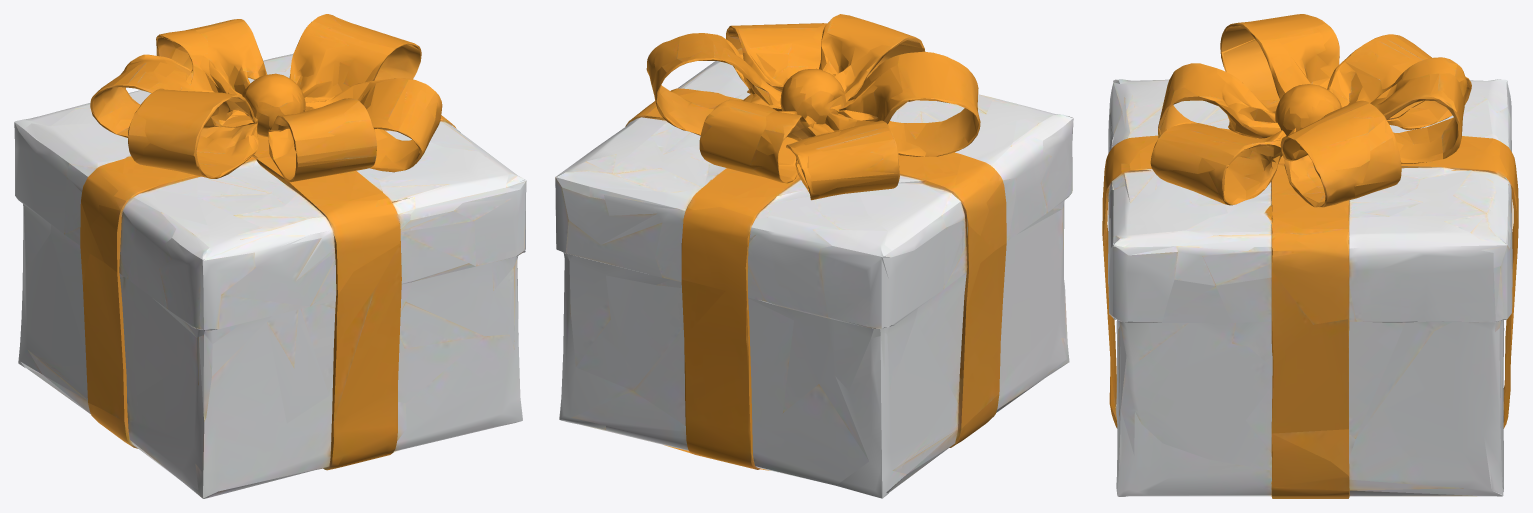
The model's file is gift-box.glb.
3 renders of one model, left to right at view 1: azimuth 30°, elevation 25°; view 2: azimuth 150°, elevation 25°; view 3: azimuth 270°, elevation 25°, orthographic. The views are drawn at different scales.
Bounding box in the file's own units: 0.9999 × 0.9443 × 1.
1 material, 1 textured.
